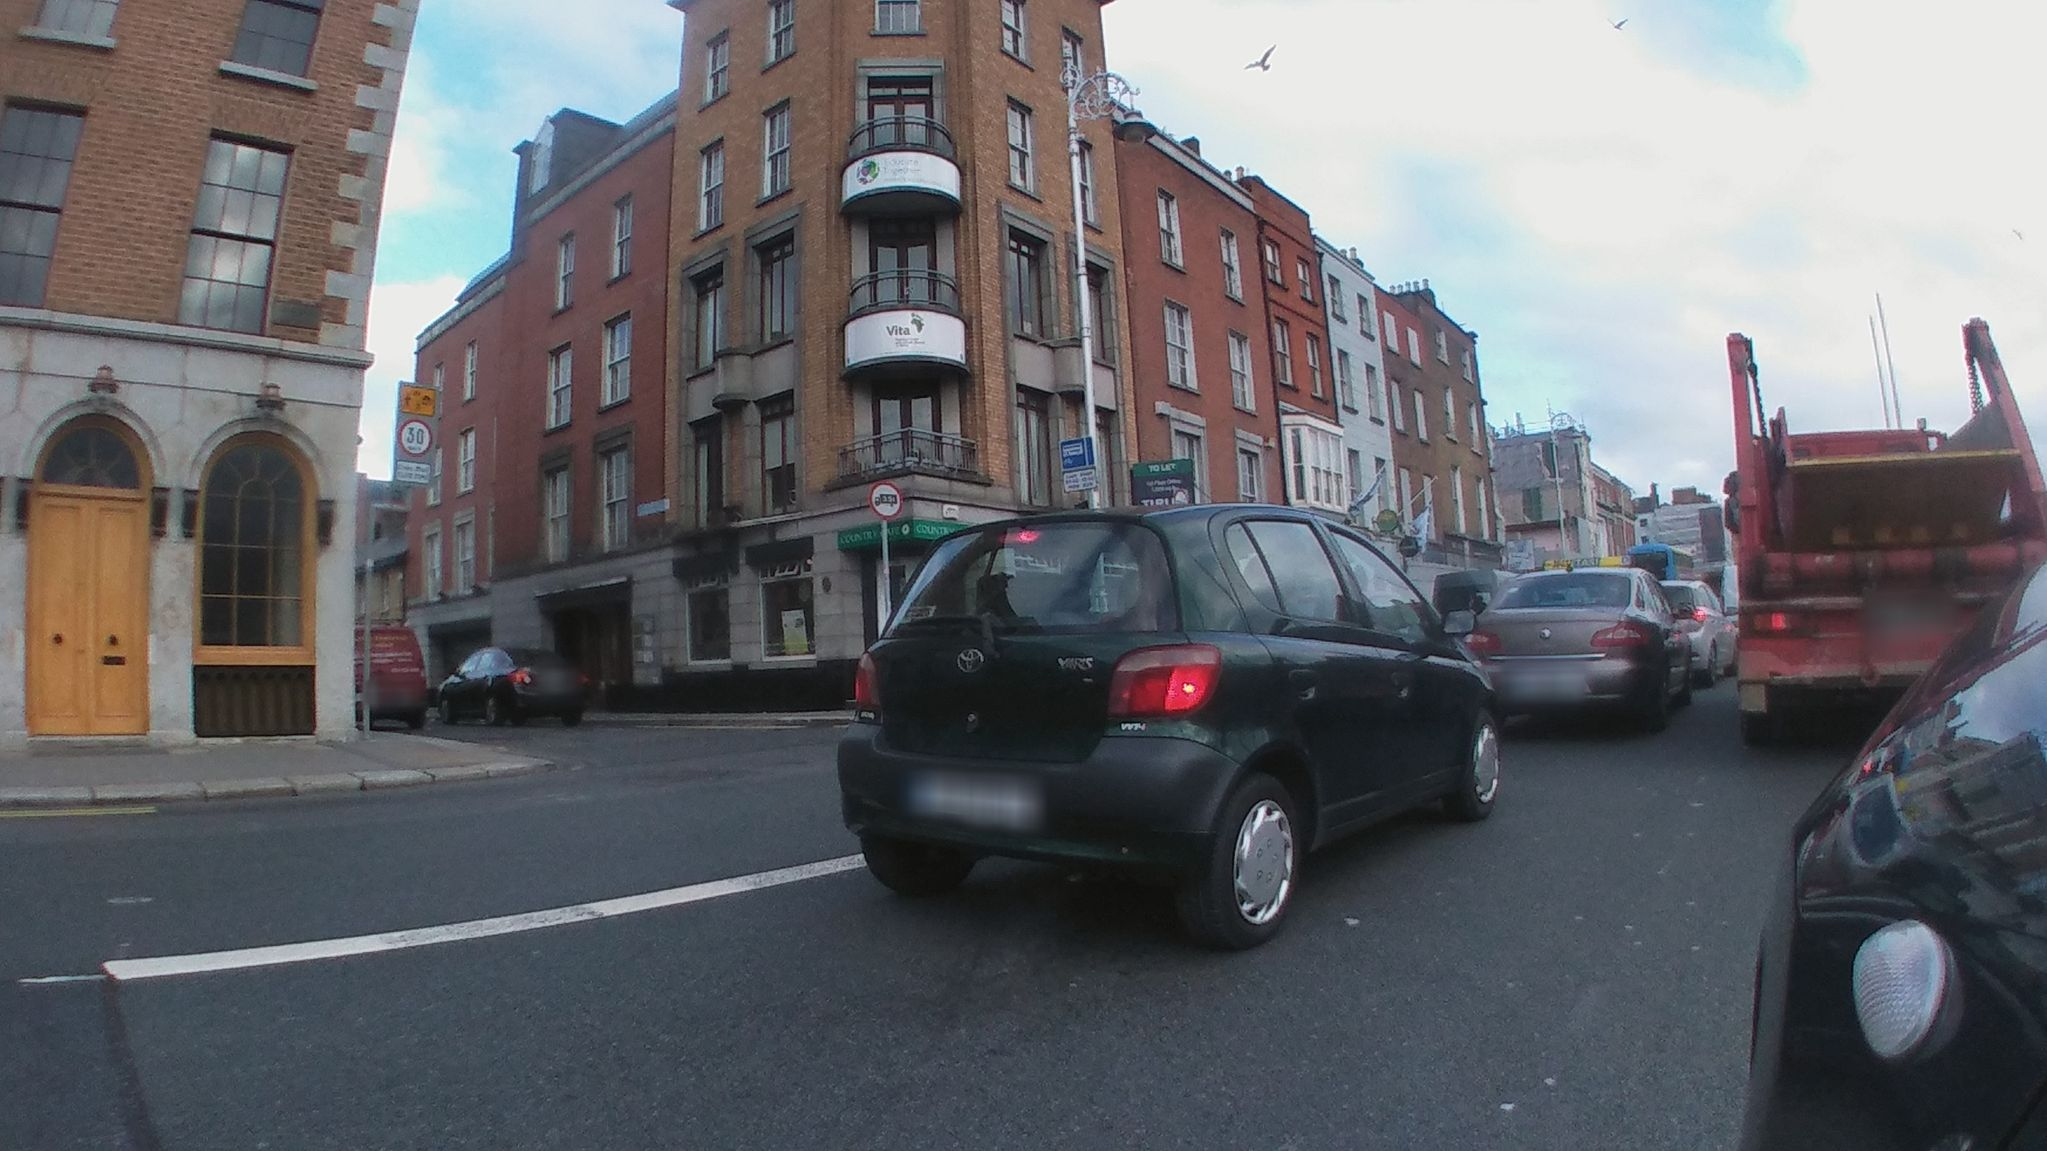property sign: (1123, 450, 1218, 537)
